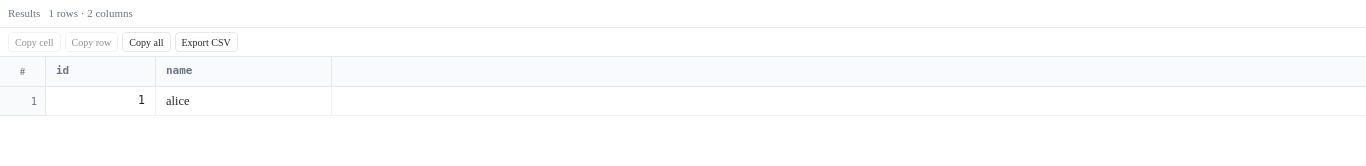
ResultsPanel › exports the current result to CSV and reports the write
Click the button "Export CSV" at (206, 42), box [174, 32, 238, 52]
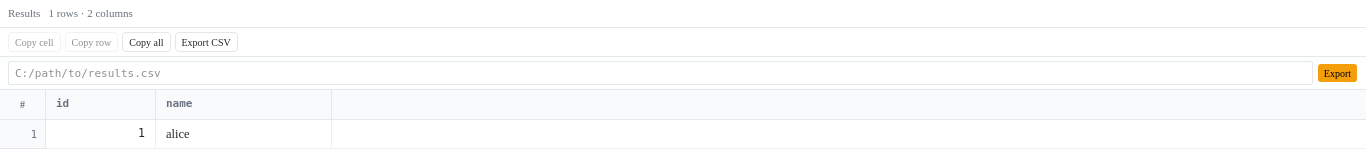
Type "  C:/tmp/out.csv  " into the field named "CSV file path" at (660, 73), box [8, 61, 1313, 85]
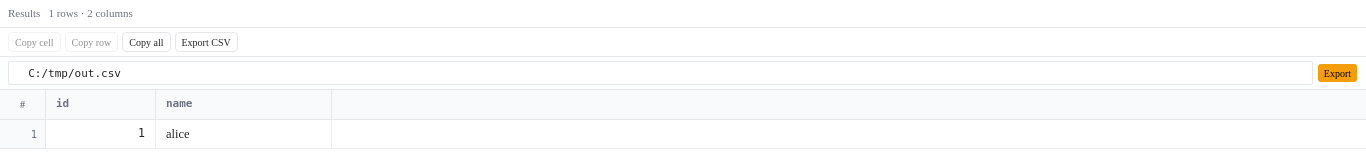
Click the button "Export" at (1337, 73), box [1317, 63, 1358, 83]
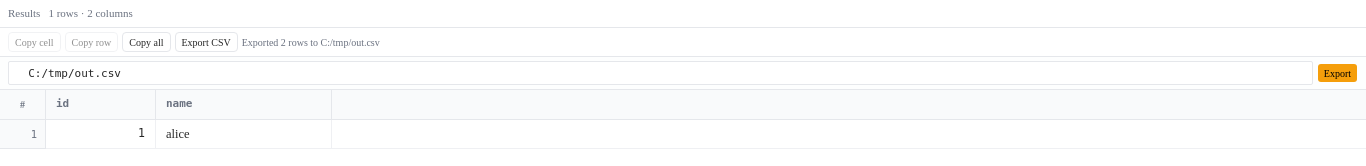
Result: the text "Exported 2 rows to C:/tmp/out.csv" is shown at [242, 34, 380, 50]
